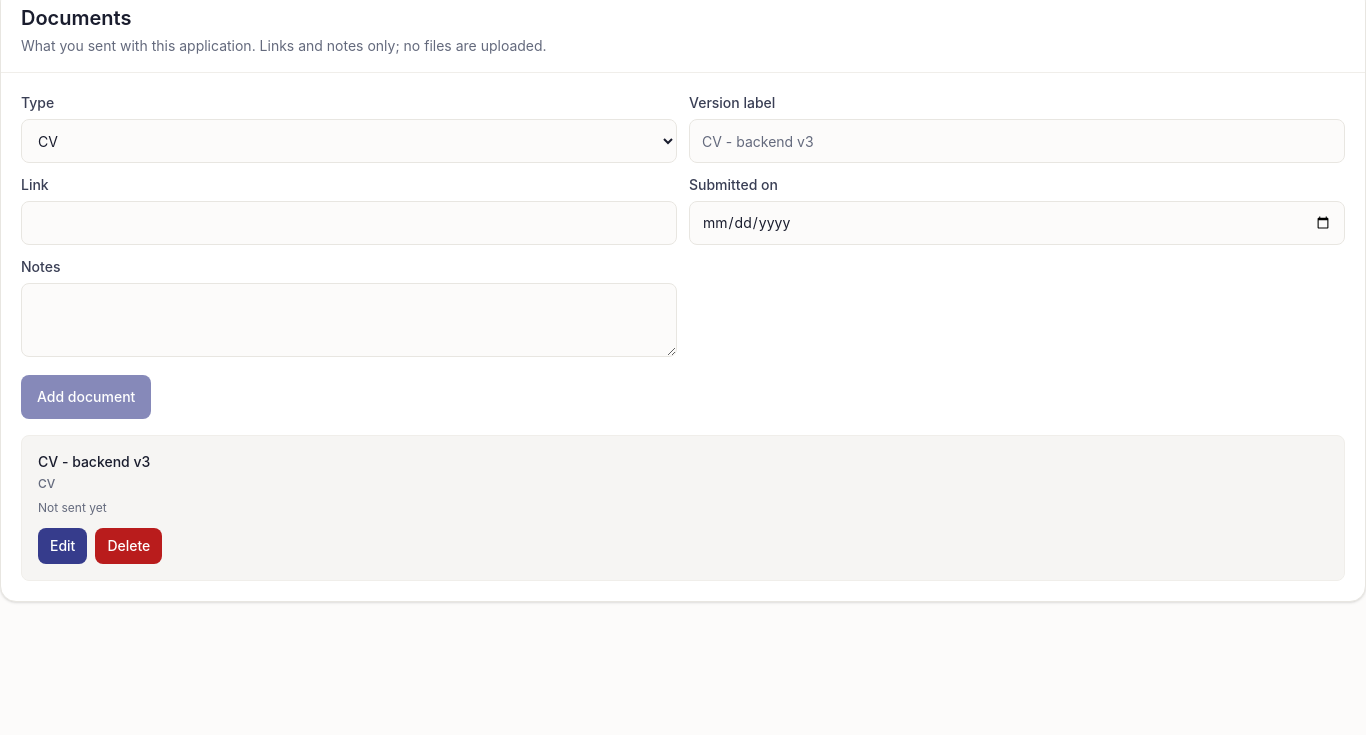
Test: JobDetailDocumentsPanel › edits a document in place
The width and height of the screenshot is (1366, 735).
Click the button with aria-label "Edit document CV - backend v3".
click(63, 546)  # box top-left (38, 528), bottom-right (87, 564)
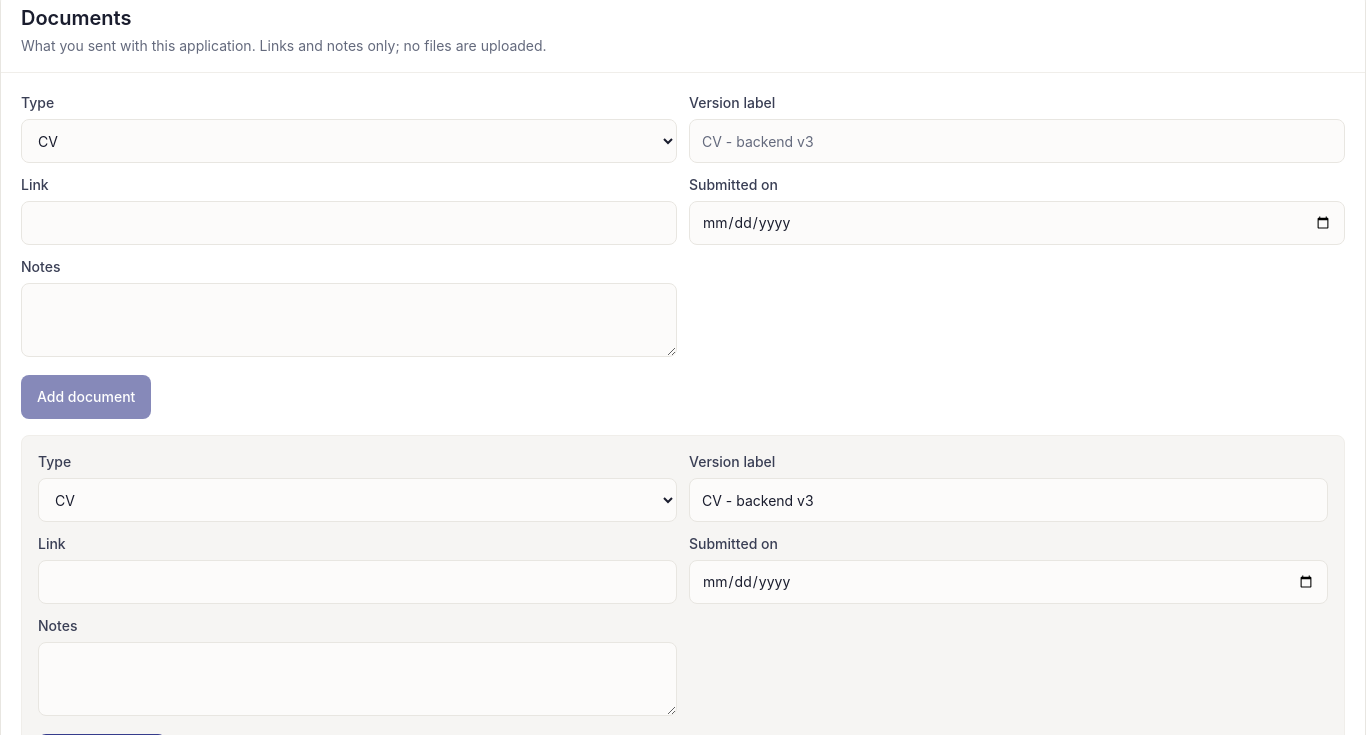
Type "2026-05-12" into the 2nd date field labelled "Submitted on".
click(1008, 582); type("2026-05-12")  # box top-left (689, 560), bottom-right (1328, 604)
(page scrolled)
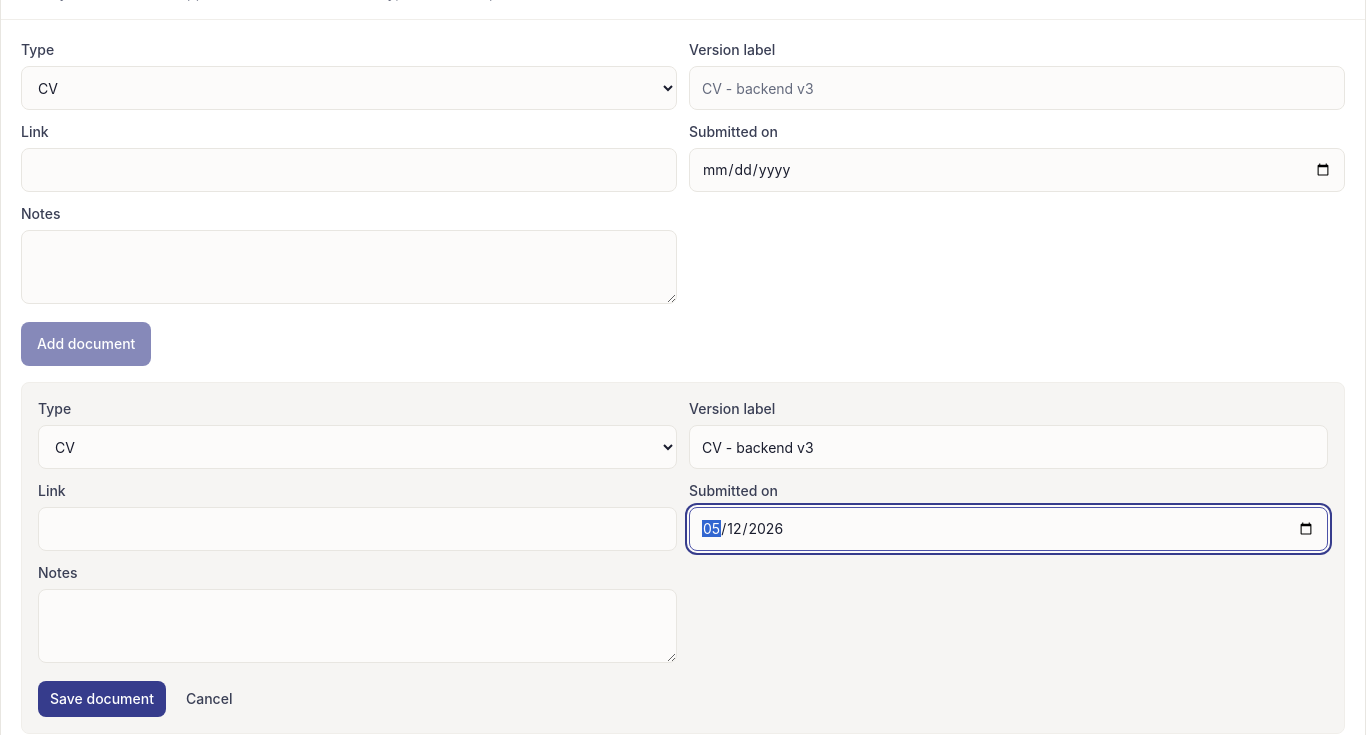
Click the button "Save document".
click(102, 699)  # box top-left (38, 681), bottom-right (166, 717)
(page scrolled)
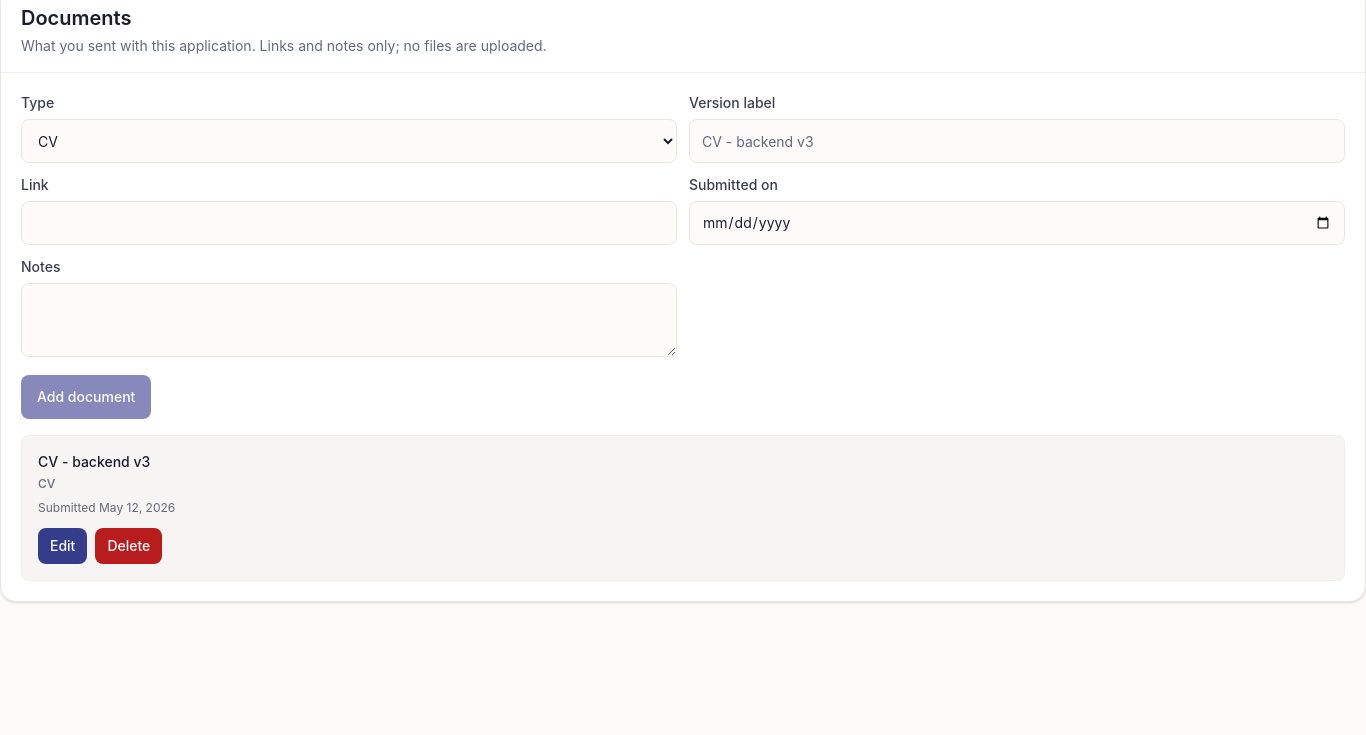
Check: the text "Submitted May 12, 2026" is shown, box top-left (38, 500), bottom-right (175, 515)
